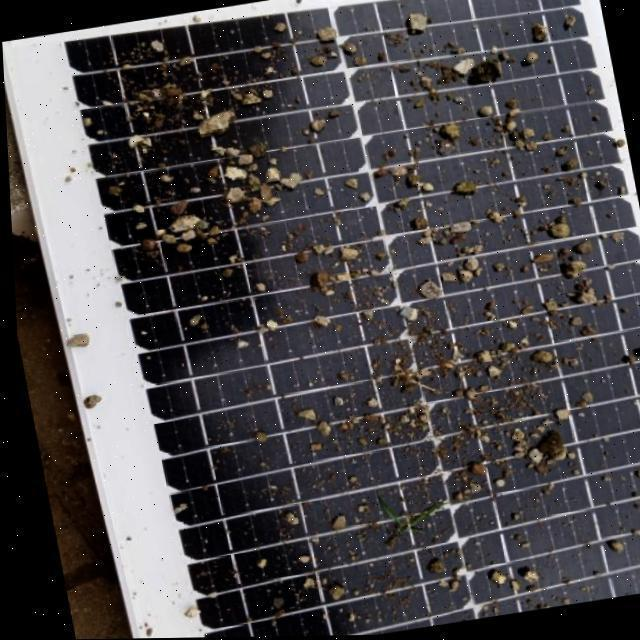Surface Contaminant: (34, 0, 640, 639)
